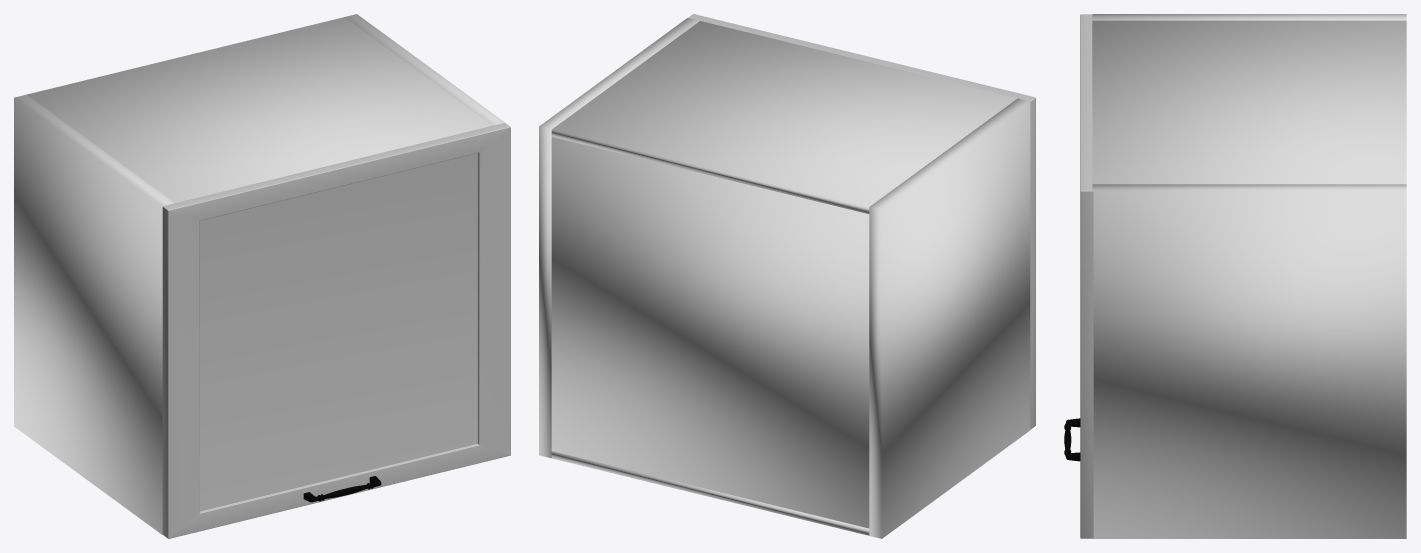
Rendered from cupboard_small.fbx.
The picture shows the model from 3 angles, left to right: view 1: azimuth 30°, elevation 25°; view 2: azimuth 150°, elevation 25°; view 3: azimuth 270°, elevation 25°; orthographic projection. The views are drawn at different scales.
Visible parts, largest first — view 1: skap3_lagre_facade, skap3_lagre_base; view 2: skap3_lagre_base, skap3_lagre_facade; view 3: skap3_lagre_base, skap3_lagre_facade, skap3_lagre_handle.
Boxes of the visible parts, x1,y1,x2,y2 form: skap3_lagre_facade: (162,123,510,538); skap3_lagre_base: (14,14,505,534); skap3_lagre_base: (539,18,1030,538); skap3_lagre_facade: (688,14,1035,429); skap3_lagre_base: (1092,14,1406,538); skap3_lagre_facade: (1080,14,1093,538); skap3_lagre_handle: (1064,418,1080,461).
Bounding box in the file's own units: 60 × 49.03 × 55.
